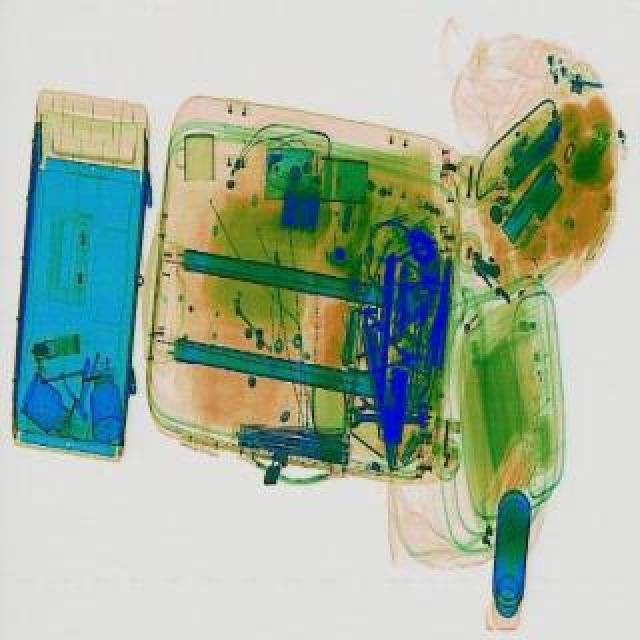scissors: (354, 394, 422, 422), (346, 406, 430, 428)
wrench: (332, 304, 440, 394), (372, 222, 436, 262)
